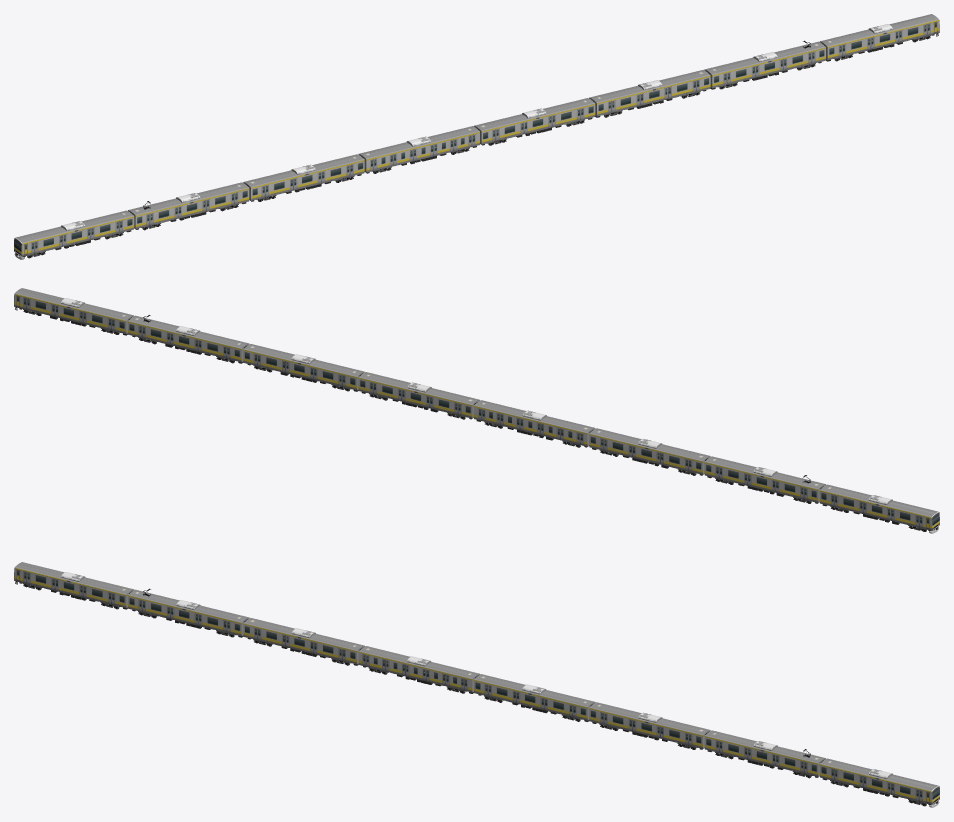
File: train.fbx
The picture shows the model from 3 angles, top to bottom: view 1: azimuth 30°, elevation 25°; view 2: azimuth 150°, elevation 25°; view 3: azimuth 330°, elevation 25°; orthographic projection.
Visible parts, largest first — view 1: Object_4, Object_22, Object_6, Object_5, Object_19, Object_10; view 2: Object_4, Object_22, Object_6, Object_5, Object_19, Object_10; view 3: Object_4, Object_22, Object_6, Object_5, Object_19, Object_10.
Part boxes in pixels (x1,y1,x2,y2): Object_4: (129, 41, 825, 228); Object_22: (14, 14, 939, 259); Object_6: (359, 126, 479, 172); Object_5: (128, 52, 777, 228); Object_19: (64, 36, 925, 248); Object_10: (28, 35, 931, 256); Object_4: (128, 315, 824, 502); Object_22: (14, 288, 939, 533); Object_6: (473, 400, 594, 446); Object_5: (176, 326, 825, 502); Object_19: (23, 310, 925, 531); Object_10: (23, 309, 925, 530); Object_4: (128, 589, 824, 776); Object_22: (14, 562, 939, 807); Object_6: (358, 646, 479, 692); Object_5: (176, 600, 825, 776); Object_19: (59, 592, 925, 803); Object_10: (22, 583, 925, 804).
Size of the model in its own units: 13137 by 350 by 194.
Materials: 6 (6 with a texture image).
